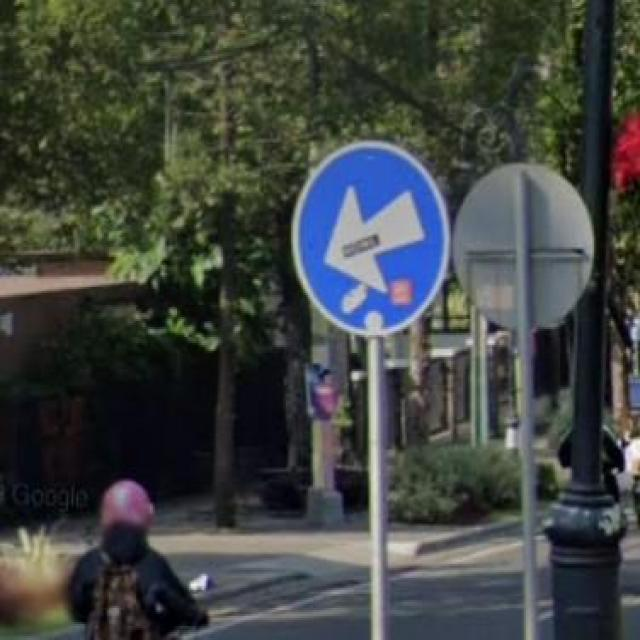traffic sign: (293, 140, 443, 336)
